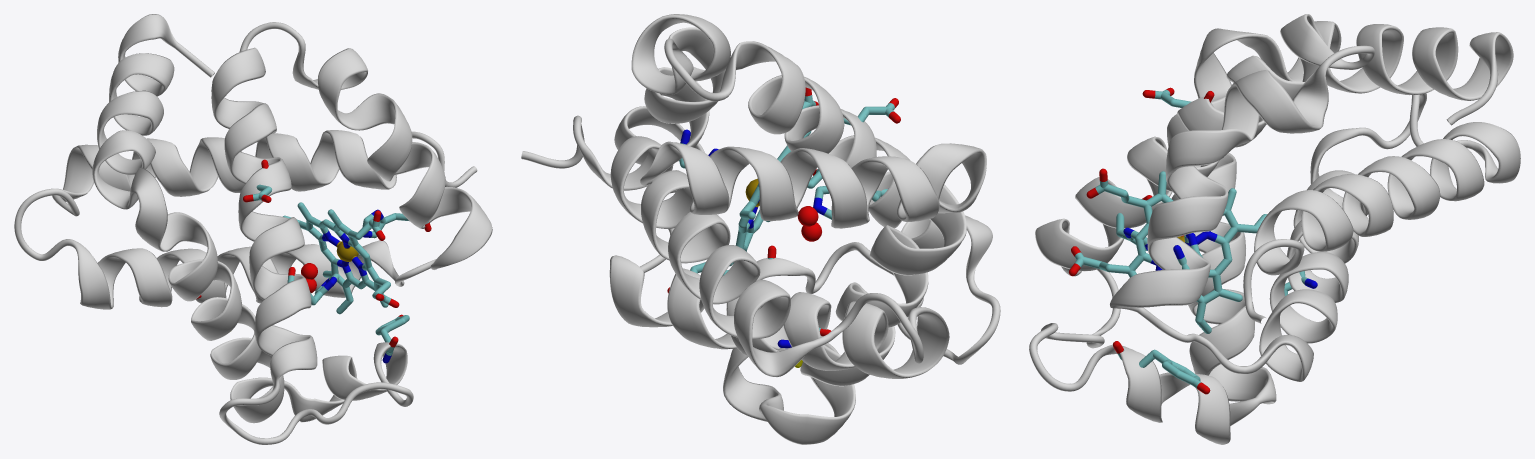
The model's file is frame01.gltf.
3 views of the same model, side by side, from view 1: azimuth 30°, elevation 25°; view 2: azimuth 150°, elevation 25°; view 3: azimuth 270°, elevation 25° (orthographic). The views are drawn at different scales.
Parts seen in each view (by area): view 1: vmd_mol1_rep3, vmd_mol1_rep2, vmd_mol1_rep1; view 2: vmd_mol1_rep3, vmd_mol1_rep1, vmd_mol1_rep2, vmd_mol1_rep4; view 3: vmd_mol1_rep3, vmd_mol1_rep2, vmd_mol1_rep1.
Part boxes in pixels (<box>): vmd_mol1_rep3: <box>14,14,492,444</box>; vmd_mol1_rep2: <box>283,202,399,314</box>; vmd_mol1_rep1: <box>196,159,431,363</box>; vmd_mol1_rep3: <box>521,14,1000,444</box>; vmd_mol1_rep1: <box>667,98,900,367</box>; vmd_mol1_rep2: <box>729,87,822,266</box>; vmd_mol1_rep4: <box>797,206,821,241</box>; vmd_mol1_rep3: <box>1029,14,1520,444</box>; vmd_mol1_rep2: <box>1069,168,1266,333</box>; vmd_mol1_rep1: <box>1113,87,1317,394</box>.
Bounding box in the file's own units: 1.42 × 1.19 × 1.3.
